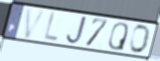7: (85, 17, 110, 48)
J: (64, 15, 89, 45)
L: (42, 10, 59, 43)
O: (128, 23, 152, 55)
Q: (107, 21, 129, 52)
V: (23, 7, 48, 40)
